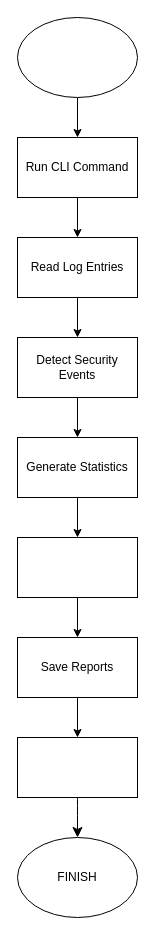
Some shapes in this 155 by 935 pixel diagram are drawn without their labels. Each missing label, with the box of its shape:
Display: (16, 736, 138, 798)
Generate Reports: (16, 536, 138, 598)
START: (16, 16, 138, 98)
